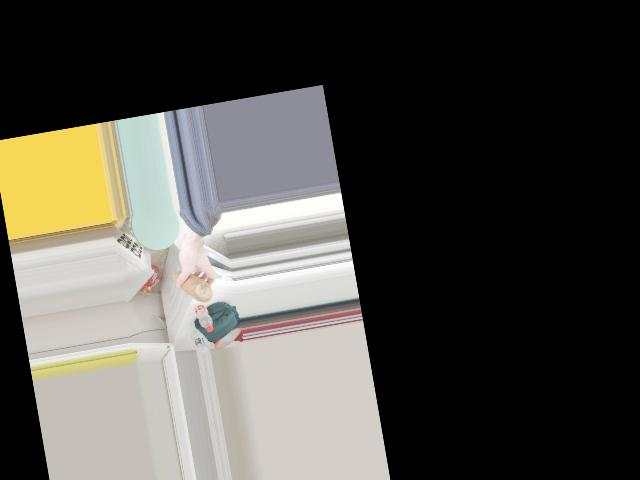sweet_potato: (167, 266, 217, 307)
